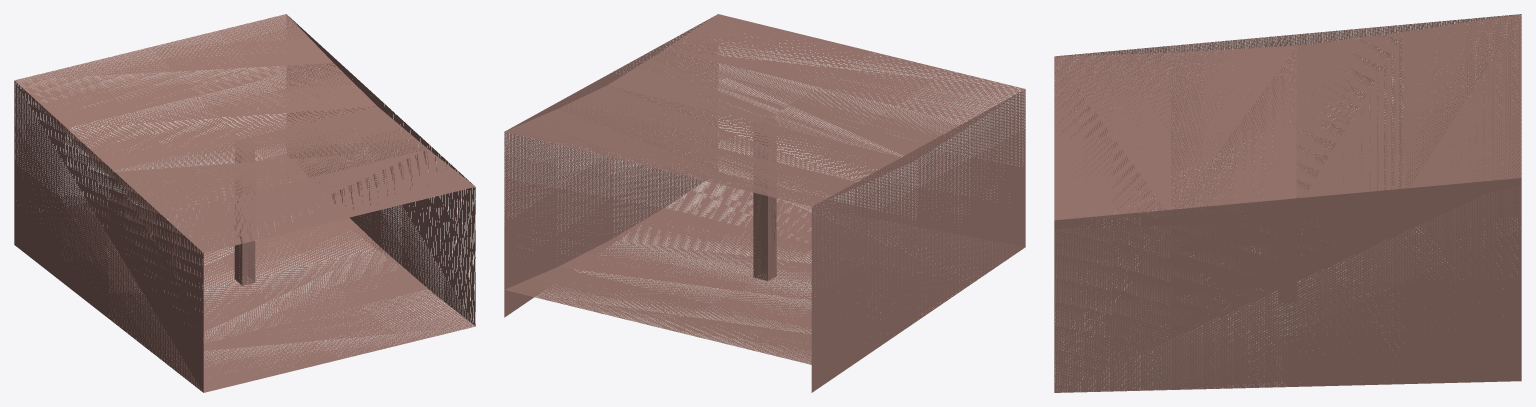
Rendered from SW_ENV_RailTunnel_Riser_A_Double_10m_FF_Collision.fbx.
3 renders of one model, left to right at view 1: azimuth 30°, elevation 25°; view 2: azimuth 150°, elevation 25°; view 3: azimuth 270°, elevation 25°, orthographic. The views are drawn at different scales.
Parts seen in each view (by area): view 1: SW_ENV_RailTunnel_Riser_A_Double_10m_FF_Collision; view 2: SW_ENV_RailTunnel_Riser_A_Double_10m_FF_Collision; view 3: SW_ENV_RailTunnel_Riser_A_Double_10m_FF_Collision.
Part boxes in pixels (<box>): SW_ENV_RailTunnel_Riser_A_Double_10m_FF_Collision: <box>14,14,475,392</box>; SW_ENV_RailTunnel_Riser_A_Double_10m_FF_Collision: <box>504,14,1025,392</box>; SW_ENV_RailTunnel_Riser_A_Double_10m_FF_Collision: <box>1054,14,1521,392</box>.
Size of the model in its own units: 8.3 by 5.08 by 10.
